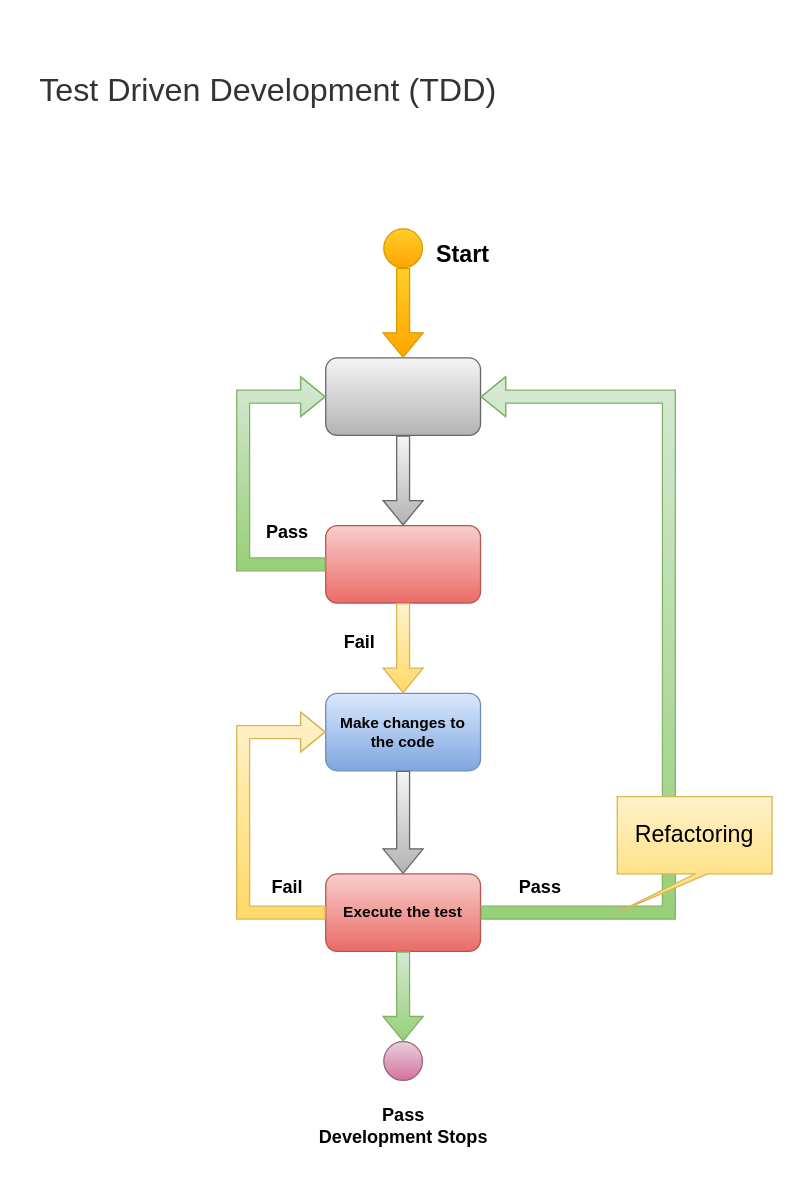
Some shapes in this 795 by 1179 pixel diagram are drawn without their labels. Here are the shapes that lost their labels. From the top down, the centre of each, then its label:
point (402, 396): Add a Test
point (402, 563): Execute the Tests
